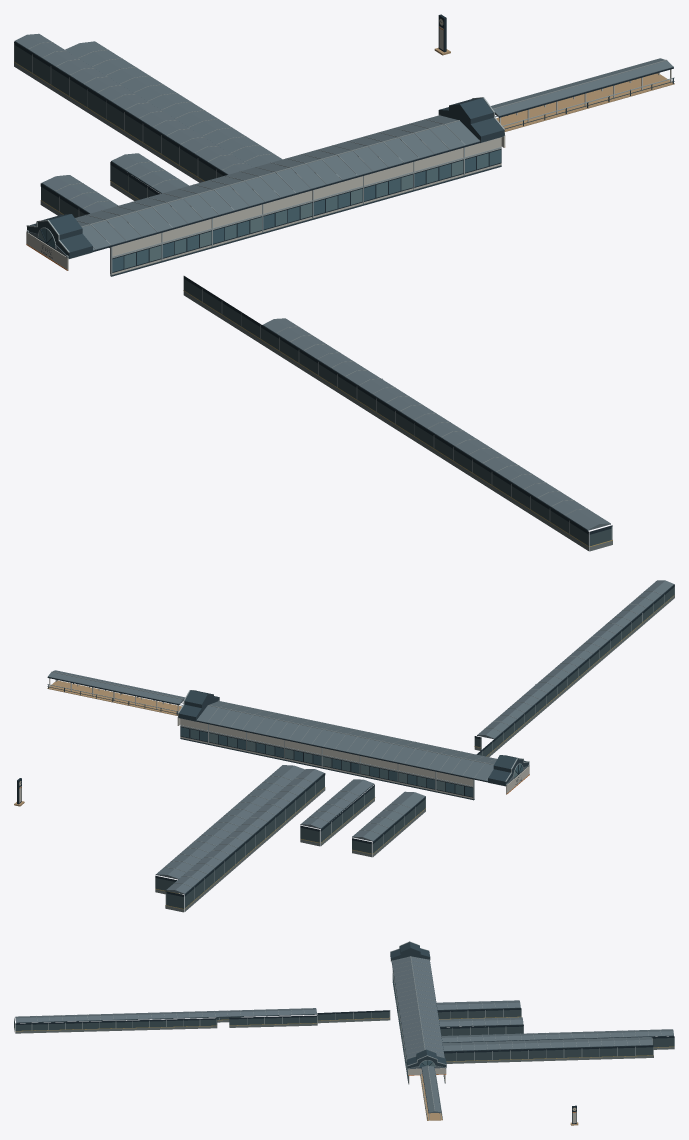
Rendered from okazaki-station.glb.
The picture shows the model from 3 angles, top to bottom: view 1: azimuth 30°, elevation 25°; view 2: azimuth 150°, elevation 25°; view 3: azimuth 270°, elevation 25°; orthographic projection. The views are drawn at different scales.
Visible parts, largest first — view 1: StationArchitecture; view 2: StationArchitecture; view 3: StationArchitecture.
Boxes of the visible parts, <box> form: StationArchitecture: <box>14,33,674,551</box>; StationArchitecture: <box>47,580,674,912</box>; StationArchitecture: <box>14,941,674,1120</box>.
Size of the model in its own units: 121 by 15.98 by 207.
